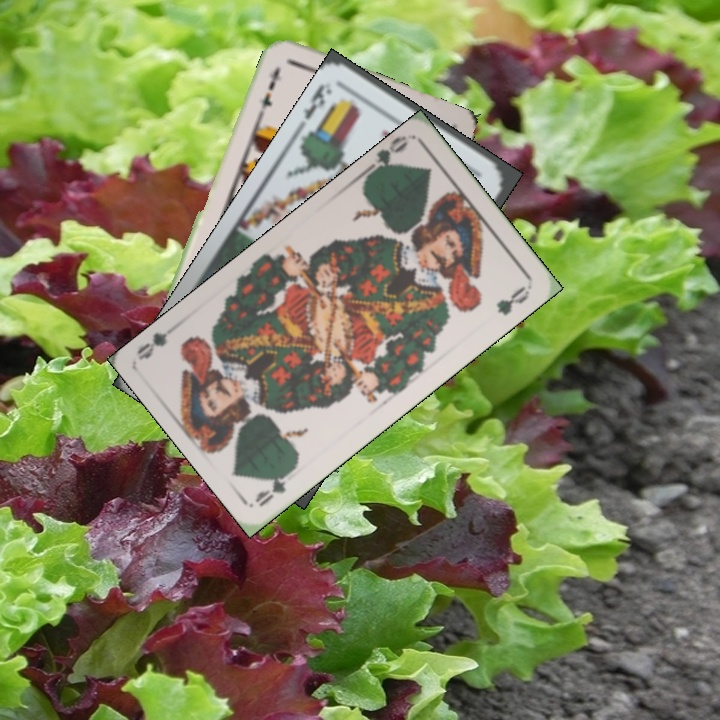E7: (255, 62, 284, 117)
EK: (300, 79, 328, 122)
GO: (251, 461, 300, 509), (360, 132, 410, 178)
